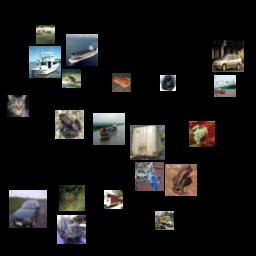automobile: (9, 190, 47, 228), (212, 40, 244, 72)
cat: (7, 95, 29, 117), (62, 69, 81, 88)
deer: (59, 185, 85, 211), (36, 25, 55, 44)
dog: (160, 75, 176, 91)
frog: (165, 164, 197, 196), (55, 110, 84, 139), (135, 162, 164, 191), (189, 121, 215, 147), (112, 73, 131, 92)
ship: (93, 113, 125, 145), (66, 34, 98, 66), (29, 46, 61, 78), (214, 75, 236, 97)
truck: (130, 125, 165, 160), (57, 215, 86, 244), (155, 211, 174, 230), (104, 190, 123, 209)
